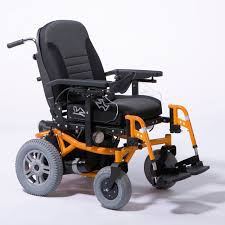wheelchair: (7, 33, 201, 206)
